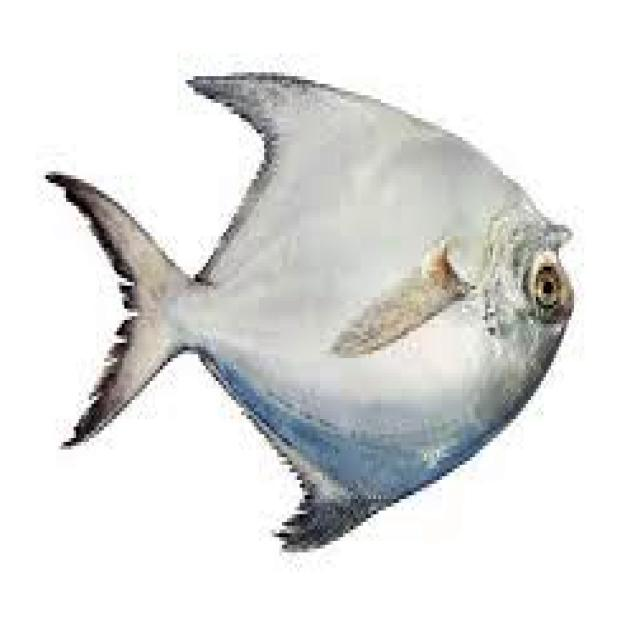pomfred: (44, 74, 576, 550)
